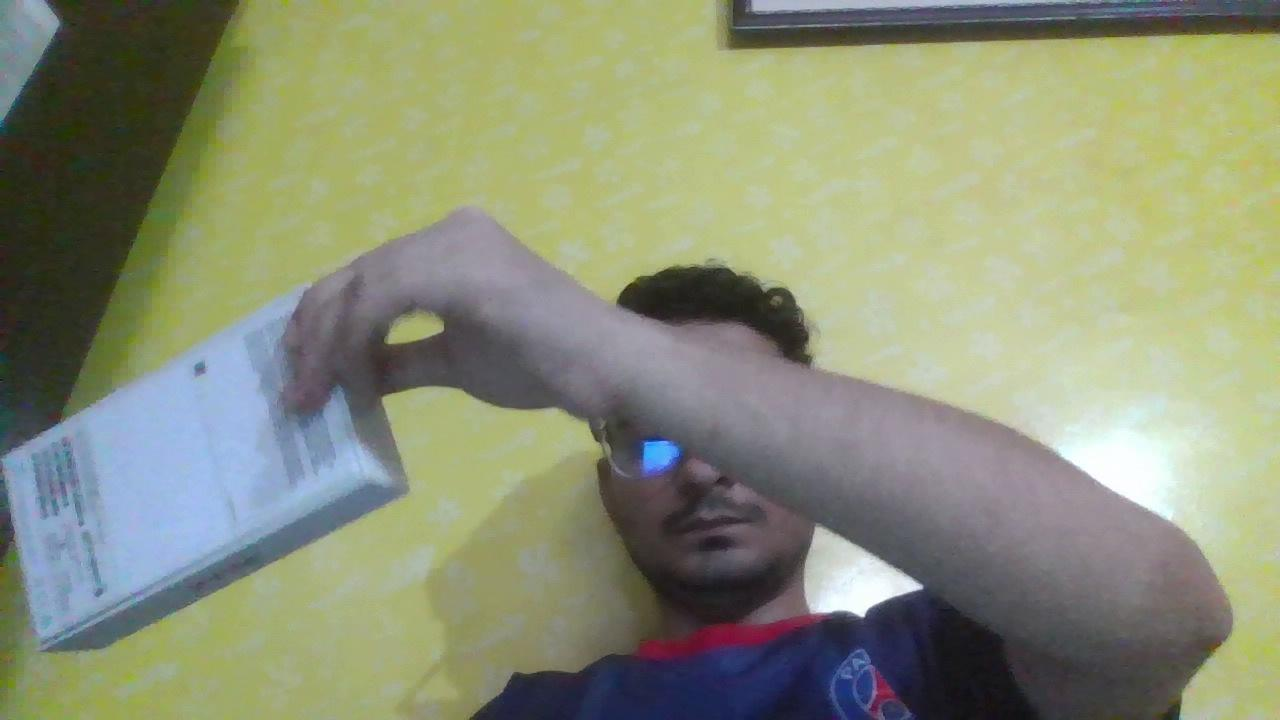Phone: (0, 236, 440, 690)
